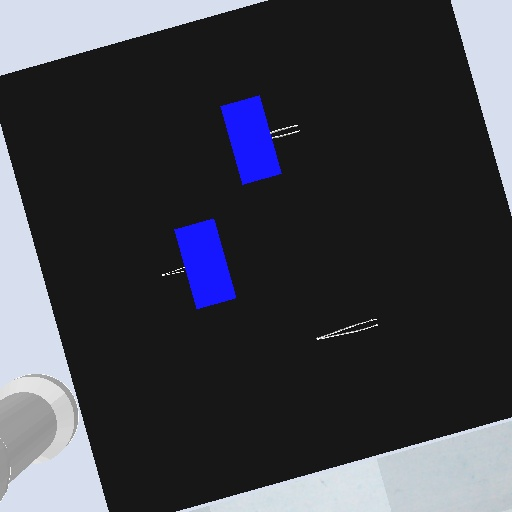pinza: (312, 315, 381, 344), (267, 122, 302, 142), (159, 265, 188, 278)
